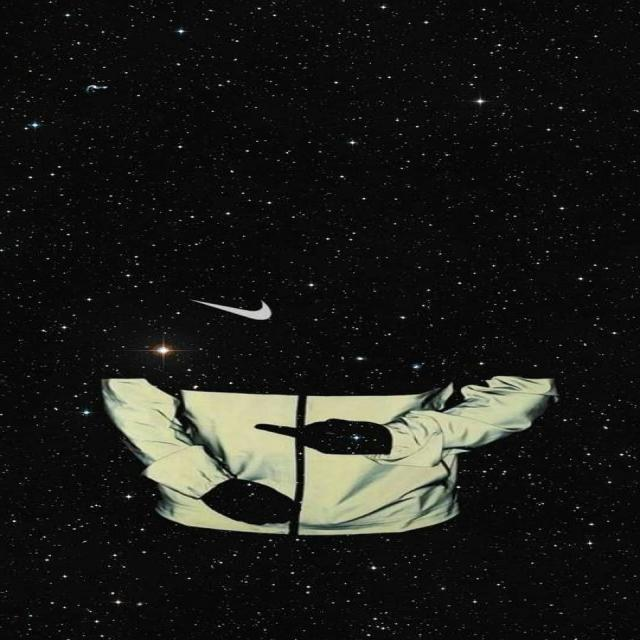nike: (180, 292, 290, 329)
